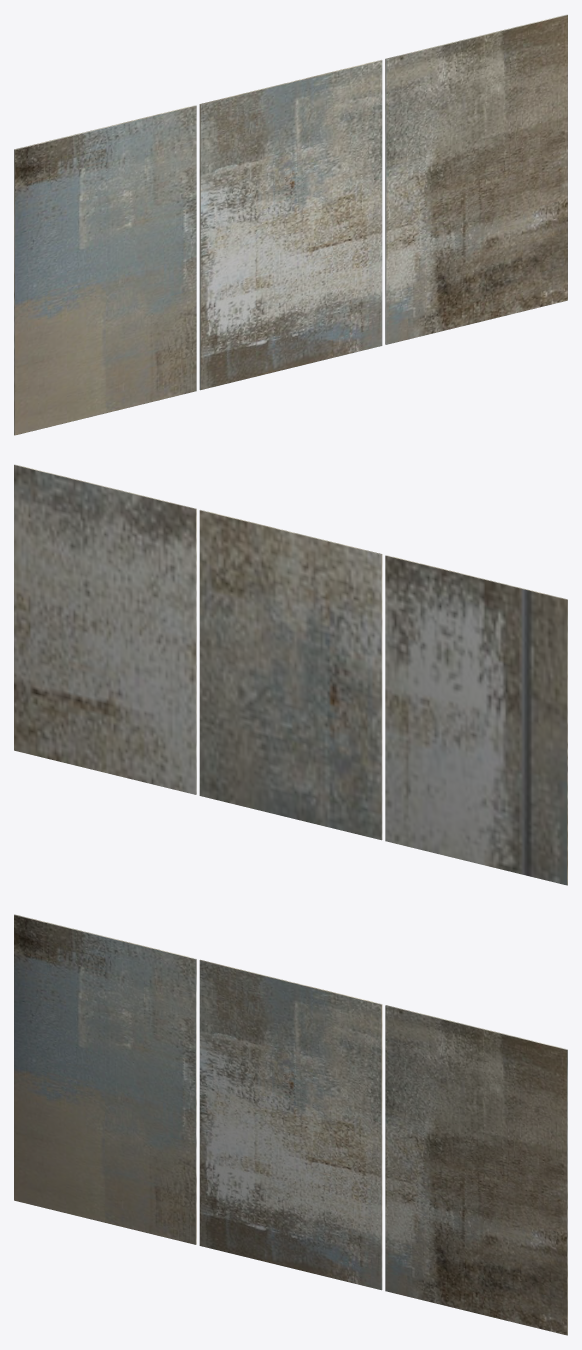
The model's file is One picture is divided into parts Rectangular.FBX.
3 renders of one model, top to bottom at view 1: azimuth 30°, elevation 25°; view 2: azimuth 150°, elevation 25°; view 3: azimuth 330°, elevation 25°, orthographic.
Parts seen in each view (by area): view 1: Box006; view 2: Box006; view 3: Box006.
Part boxes in pixels (left/top/right/bottom): Box006: left=14, top=14, right=567, bottom=435; Box006: left=14, top=464, right=567, bottom=885; Box006: left=14, top=914, right=567, bottom=1335.
Size of the model in its own units: 4256 by 2100 by 10.4.
